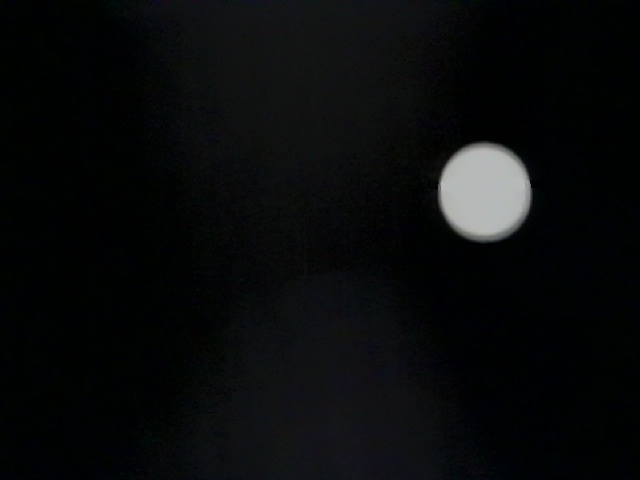YHLJ: (192, 14, 430, 127)
